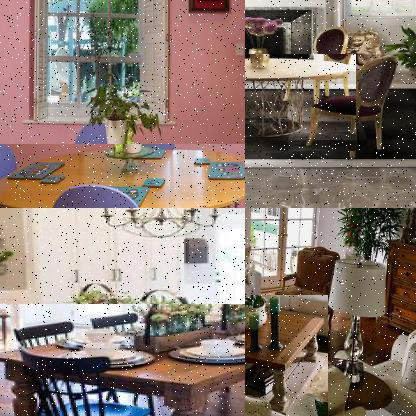table: (0, 304, 244, 415), (0, 144, 244, 207), (245, 54, 356, 153), (245, 295, 328, 415)
